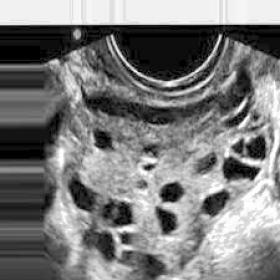PCOS: (117, 249, 171, 280), (81, 219, 117, 264), (66, 170, 98, 213), (198, 187, 231, 222), (154, 176, 191, 206), (223, 155, 259, 182), (154, 202, 180, 236), (85, 126, 117, 153), (113, 198, 133, 231), (244, 135, 268, 161), (198, 152, 218, 175), (230, 134, 247, 158), (102, 198, 115, 221), (140, 143, 160, 156), (140, 163, 161, 173), (120, 231, 134, 244), (136, 179, 150, 191)
